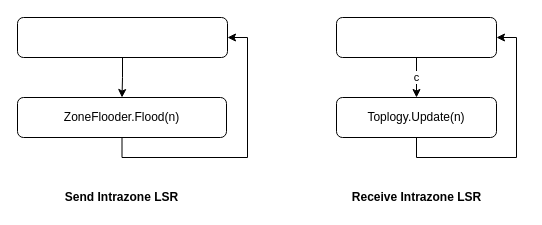
Image size: 542x225. Some labels were removed from this diagram. Here are the shapes that lost their labels. From the top down, the centre of each, then its label:
[122,37]: n = SARP.WaitForNeighborsTable()
[416,37]: n = ZoneFlooder.Listen()
